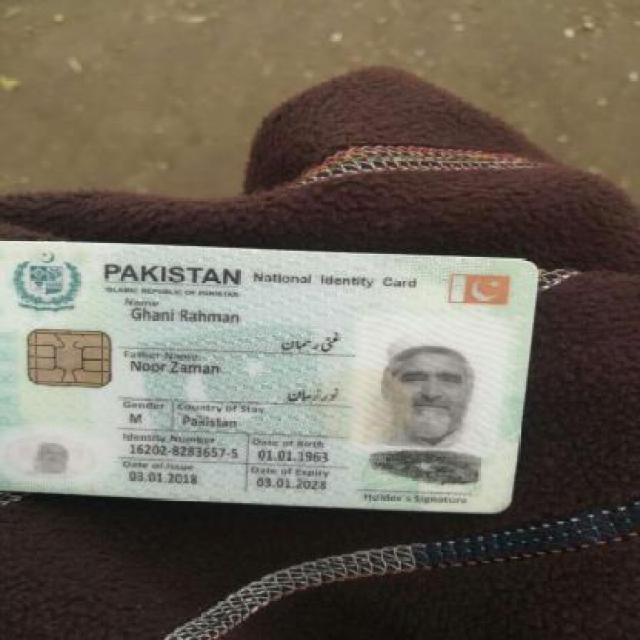Front: (5, 234, 552, 518)
